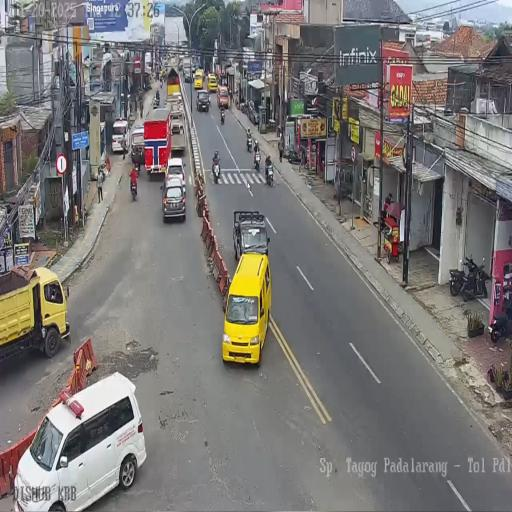car: (13, 370, 146, 508), (222, 250, 270, 365), (165, 156, 186, 197), (112, 118, 130, 154), (130, 124, 145, 164), (245, 100, 259, 125), (196, 90, 211, 112), (217, 85, 229, 108), (207, 72, 218, 92), (194, 69, 204, 90)
motorcycle: (488, 288, 512, 343), (449, 256, 474, 296), (286, 148, 301, 165), (265, 160, 274, 186), (212, 157, 220, 184), (130, 174, 138, 200), (253, 148, 261, 172), (246, 134, 252, 153), (240, 99, 246, 114), (220, 108, 225, 124), (155, 74, 159, 84), (160, 78, 163, 88)
truck: (0, 266, 70, 370), (144, 106, 172, 180), (182, 59, 193, 83), (144, 52, 152, 75), (178, 58, 184, 72)
